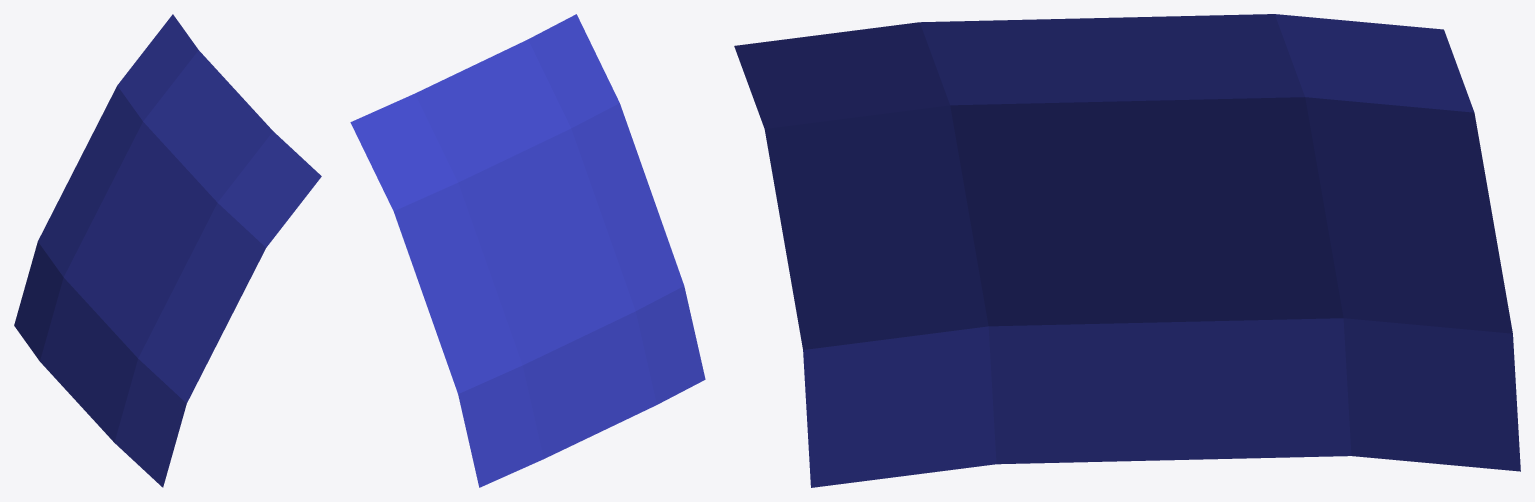
Rendered from screen.gltf.
The picture shows the model from 3 angles, left to right: view 1: azimuth 30°, elevation 25°; view 2: azimuth 150°, elevation 25°; view 3: azimuth 270°, elevation 25°; orthographic projection. The views are drawn at different scales.
Parts seen in each view (by area): view 1: Plane; view 2: Plane; view 3: Plane.
Boxes of the visible parts, left/top/right/bottom form: Plane: left=14, top=14, right=321, bottom=487; Plane: left=350, top=14, right=705, bottom=487; Plane: left=734, top=14, right=1520, bottom=487.
Bounding box in the file's own units: 1.1 × 1.92 × 2.2.
Materials: 1 (1 with a texture image).
